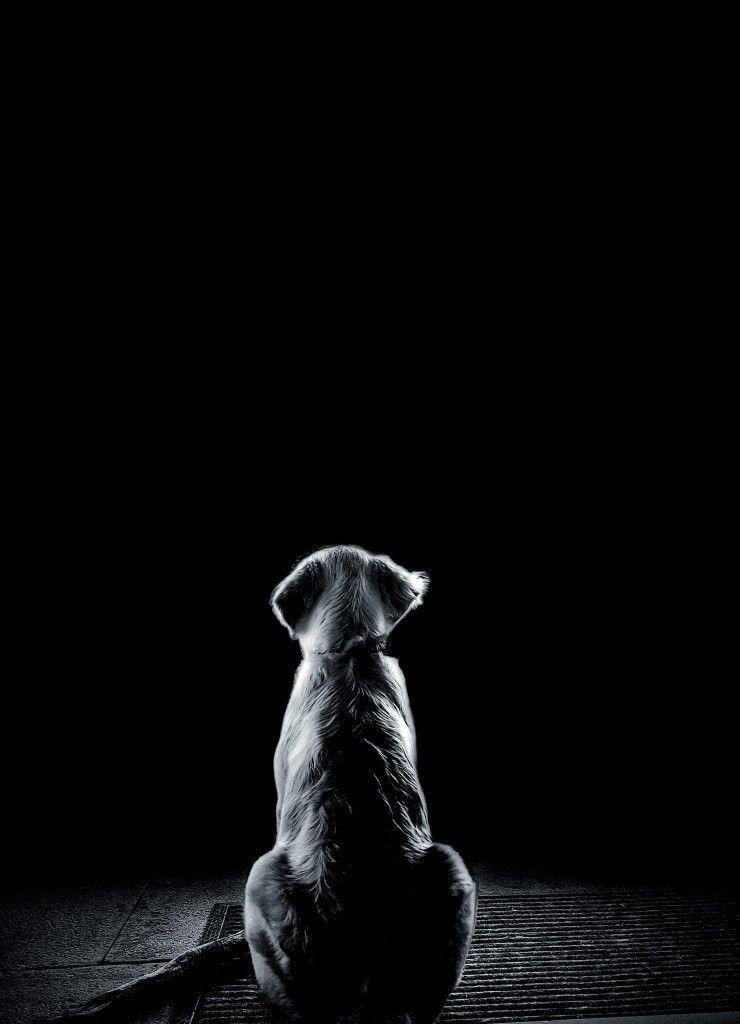adult_dog: (40, 546, 481, 1024)
